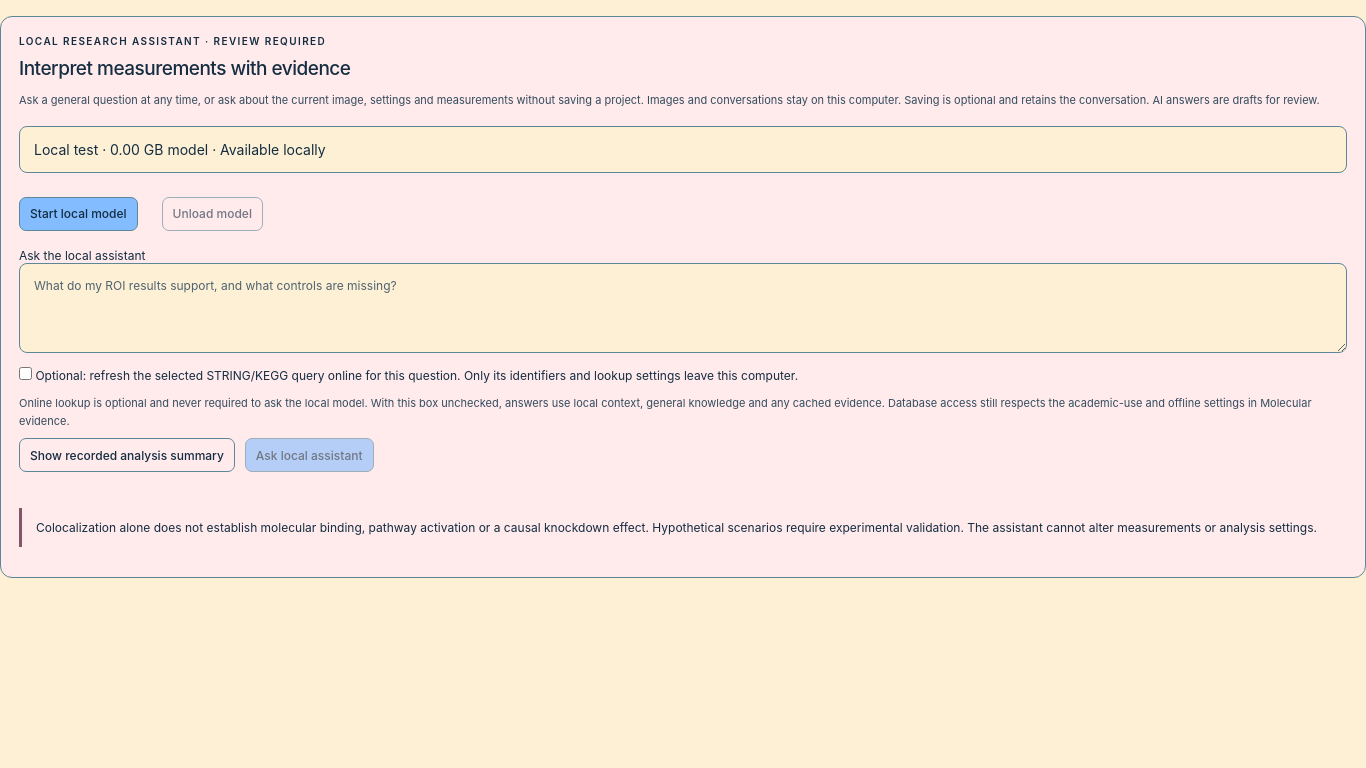
Test: allows general questions without saving, ready status or online permission
Expected: the text "Local test · 0.00 GB model · Available locally" is shown, top-left (19, 126), bottom-right (1347, 173)
Replace the text in the text box labelled "Ask the local assistant" with "Explain colocalization." at (683,308), box top-left (19, 263), bottom-right (1347, 353)
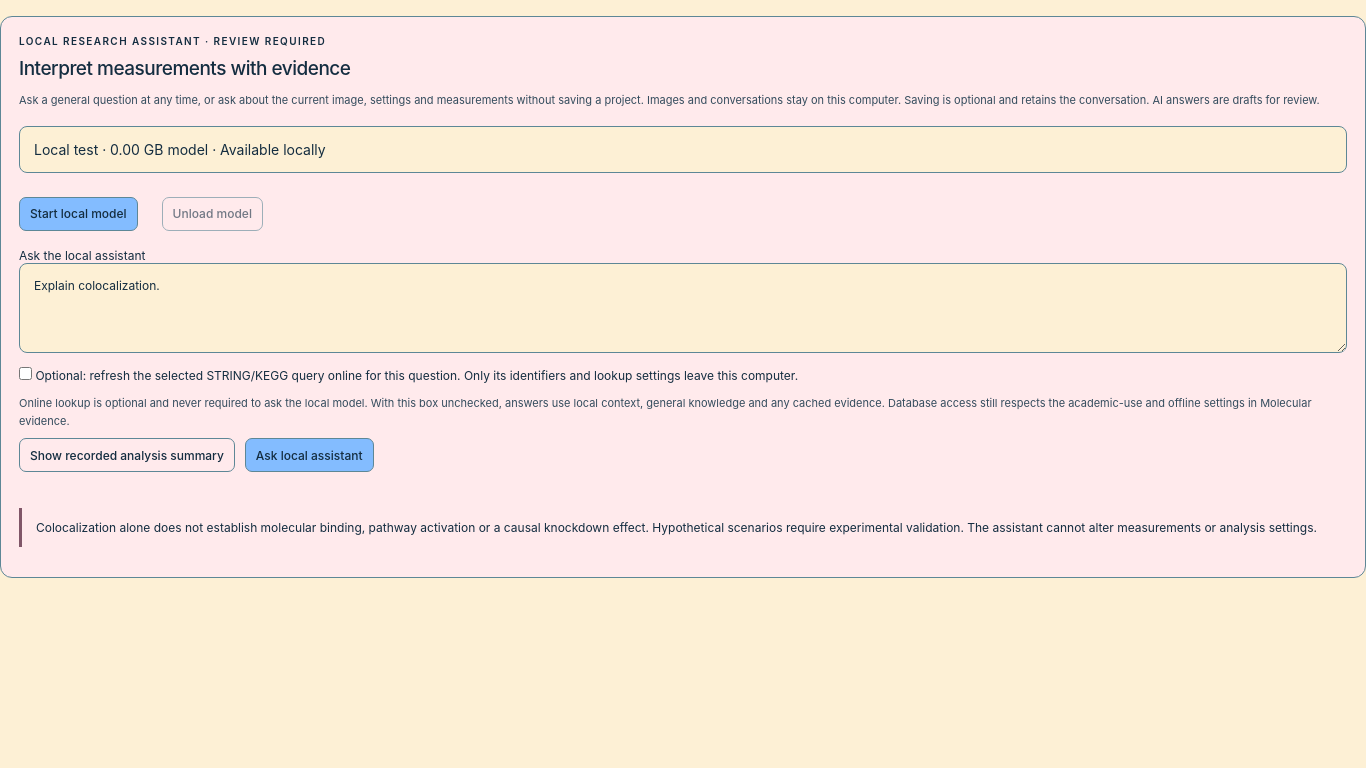
Now the button "Ask local assistant" is enabled
Click the button "Ask local assistant" at (309,455), box top-left (245, 438), bottom-right (374, 472)
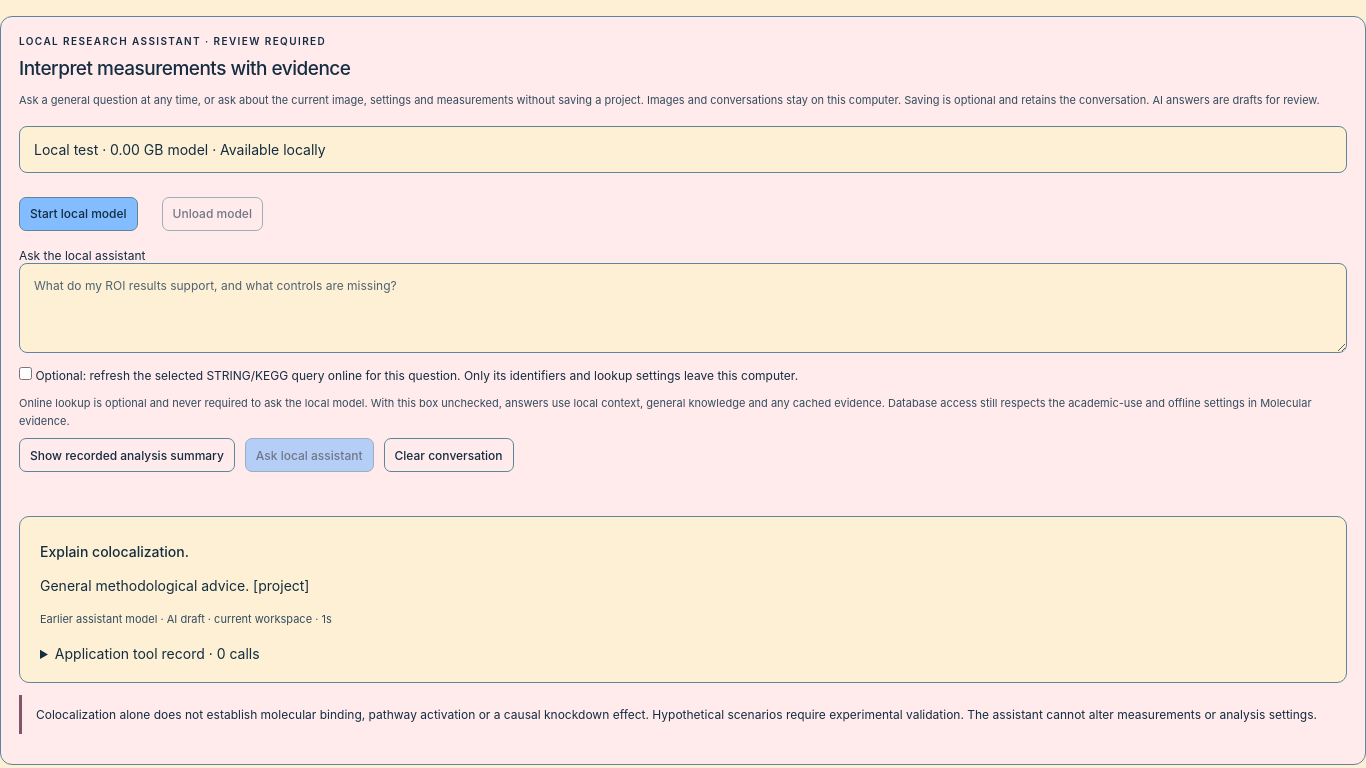
Now the text "General methodological advice. [project]" is shown, box top-left (40, 577), bottom-right (310, 594)
